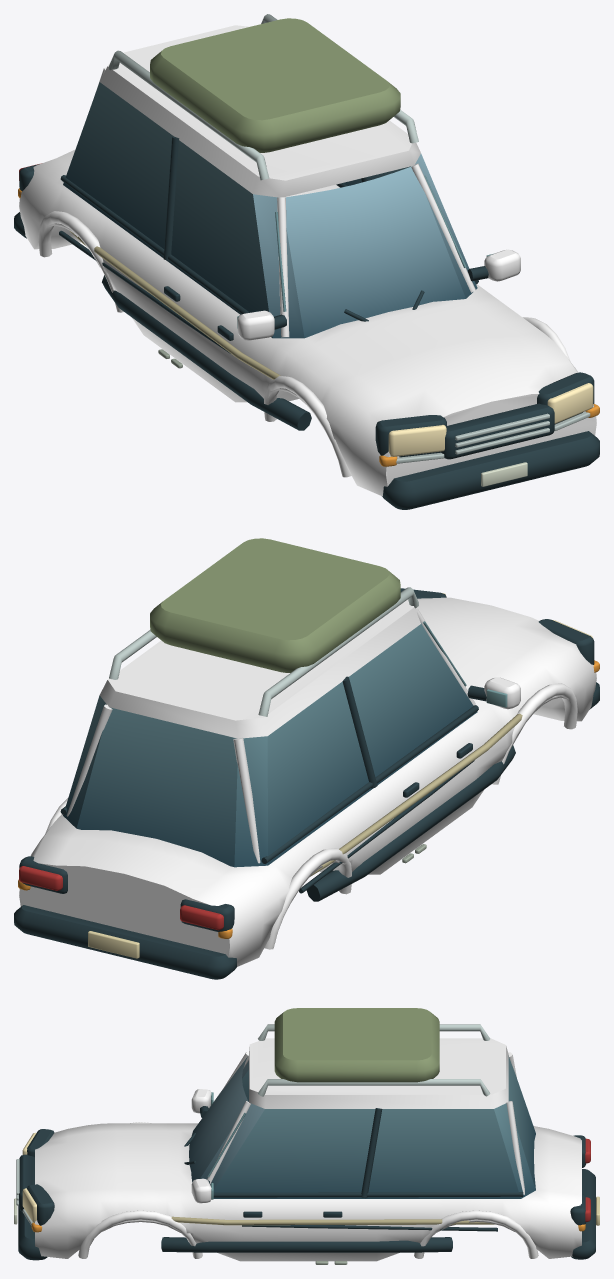
Rendered from brook.glb.
3 renders of one model, top to bottom at view 1: azimuth 30°, elevation 25°; view 2: azimuth 150°, elevation 25°; view 3: azimuth 270°, elevation 25°, orthographic. The views are drawn at different scales.
Visible parts, largest first — view 1: Chassis, Headlamps; view 2: Chassis, BrakeLamps; view 3: Chassis, Headlamps.
Boxes of the visible parts, <box> form: Chassis: <box>14,14,599,509</box>; Headlamps: <box>388,383,593,456</box>; Chassis: <box>14,538,599,979</box>; BrakeLamps: <box>19,866,223,930</box>; Chassis: <box>14,1008,599,1264</box>; Headlamps: <box>22,1132,36,1223</box>.
Bounding box in the file's own units: 1.77 × 1.55 × 4.33.
